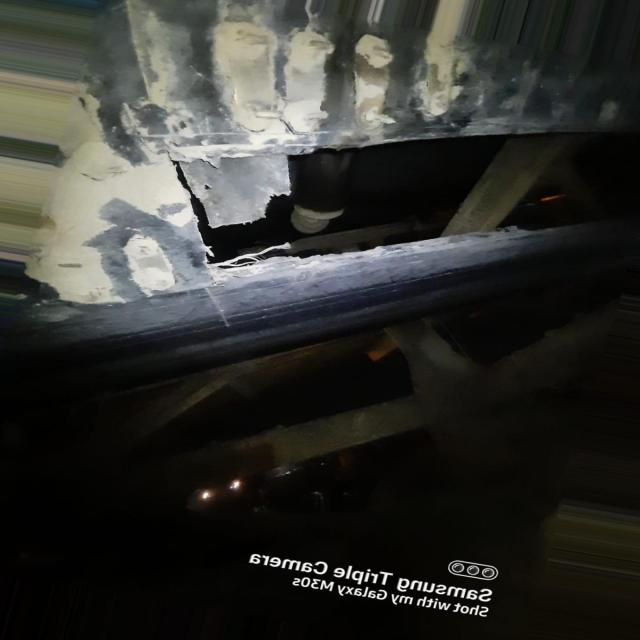Hole: (171, 132, 640, 265)
